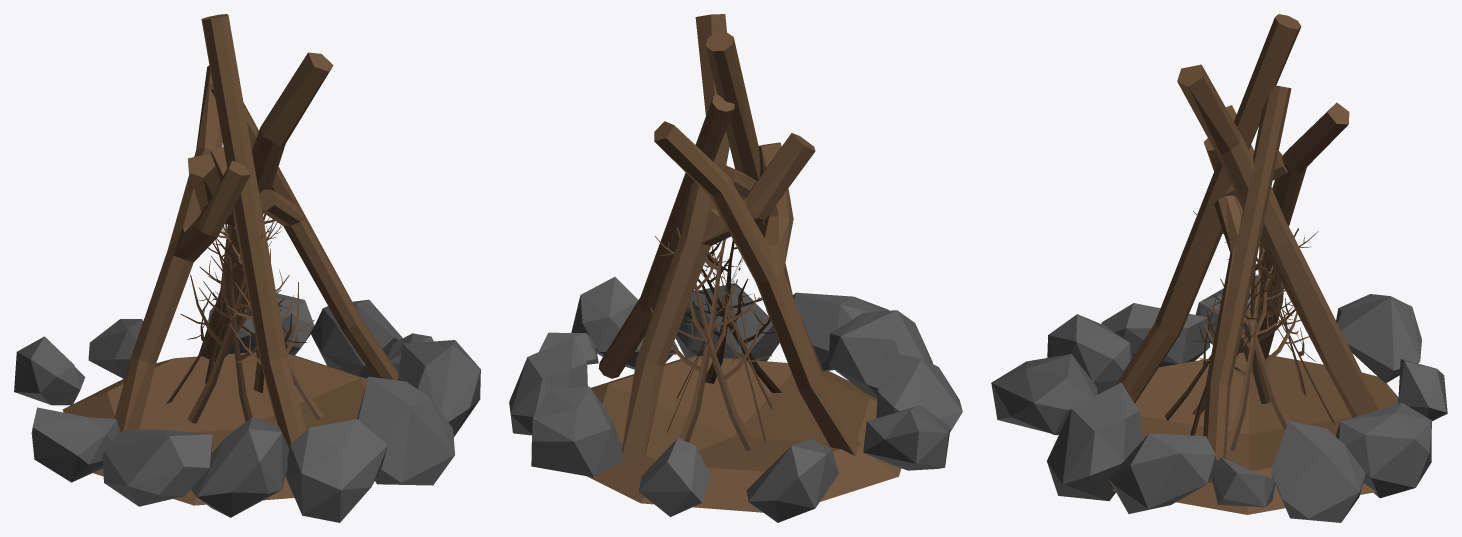
The model's file is Campfire.fbx.
3 renders of one model, left to right at view 1: azimuth 30°, elevation 25°; view 2: azimuth 150°, elevation 25°; view 3: azimuth 270°, elevation 25°, orthographic. The views are drawn at different scales.
Parts seen in each view (by area): view 1: rock.006, Cube, Plane, Plane.002, Plane.003, Plane.001, Plane.004; view 2: rock.006, Cube, Plane, Plane.004, Plane.003, Plane.002; view 3: rock.006, Cube, Plane, Plane.001, Plane.002, Plane.003, Plane.004.
Boxes of the visible parts, <box> form: rock.006: <box>14,293,480,522</box>; Cube: <box>114,14,398,448</box>; Plane: <box>62,352,367,505</box>; Plane.002: <box>180,204,292,423</box>; Plane.003: <box>218,222,323,424</box>; Plane.001: <box>203,229,306,393</box>; Plane.004: <box>166,217,282,404</box>; rock.006: <box>509,277,962,522</box>; Cube: <box>598,14,860,468</box>; Plane: <box>587,356,901,512</box>; Plane.004: <box>650,227,771,450</box>; Plane.003: <box>664,239,781,392</box>; Plane.002: <box>700,243,772,443</box>; rock.006: <box>991,275,1447,522</box>; Cube: <box>1114,14,1379,485</box>; Plane: <box>1112,352,1398,514</box>; Plane.001: <box>1193,210,1309,450</box>; Plane.002: <box>1192,226,1318,414</box>; Plane.003: <box>1165,242,1282,435</box>; Plane.004: <box>1255,254,1335,424</box>.
Bounding box in the file's own units: 61.96 × 61.99 × 60.
